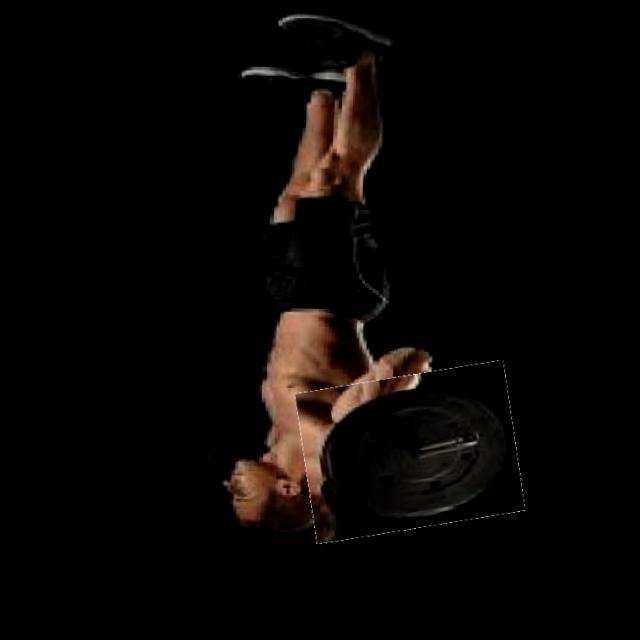barbell: (301, 362, 529, 538)
